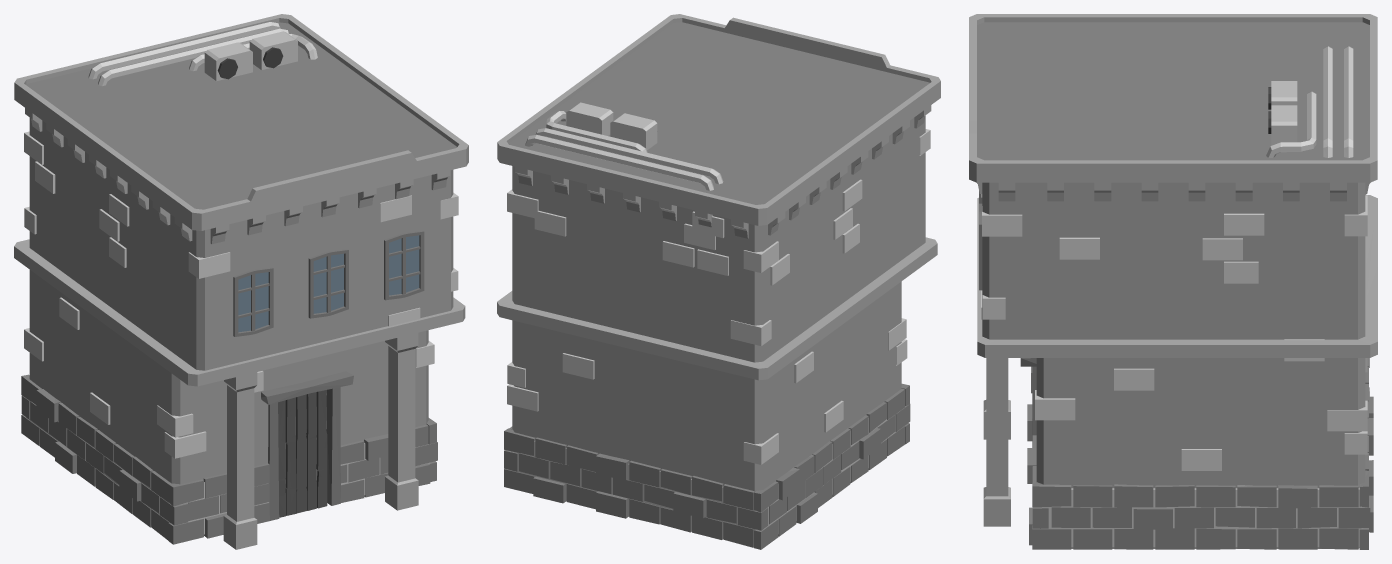
Rendered from qtb_2story_columns.fbx.
3 renders of one model, left to right at view 1: azimuth 30°, elevation 25°; view 2: azimuth 150°, elevation 25°; view 3: azimuth 270°, elevation 25°, orthographic. The views are drawn at different scales.
Visible parts, largest first — view 1: qtb_2story_columns_LOD0; view 2: qtb_2story_columns_LOD0; view 3: qtb_2story_columns_LOD0.
Part boxes in pixels (x1=…): qtb_2story_columns_LOD0: x1=14, y1=14, x2=468, y2=549; qtb_2story_columns_LOD0: x1=497, y1=14, x2=940, y2=549; qtb_2story_columns_LOD0: x1=969, y1=14, x2=1377, y2=549.
Size of what is drawn, in the model's own units: 5.83 by 7.48 by 6.72.
1 material, 1 textured.
